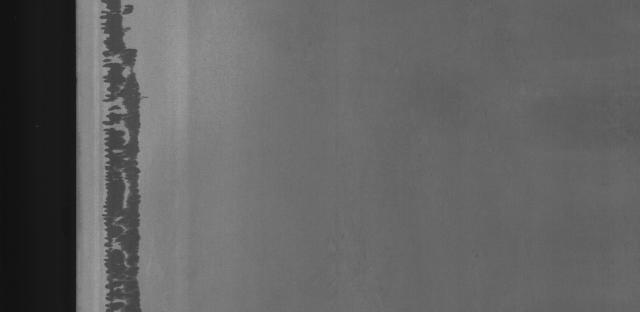oil_spot: (91, 0, 176, 312)
